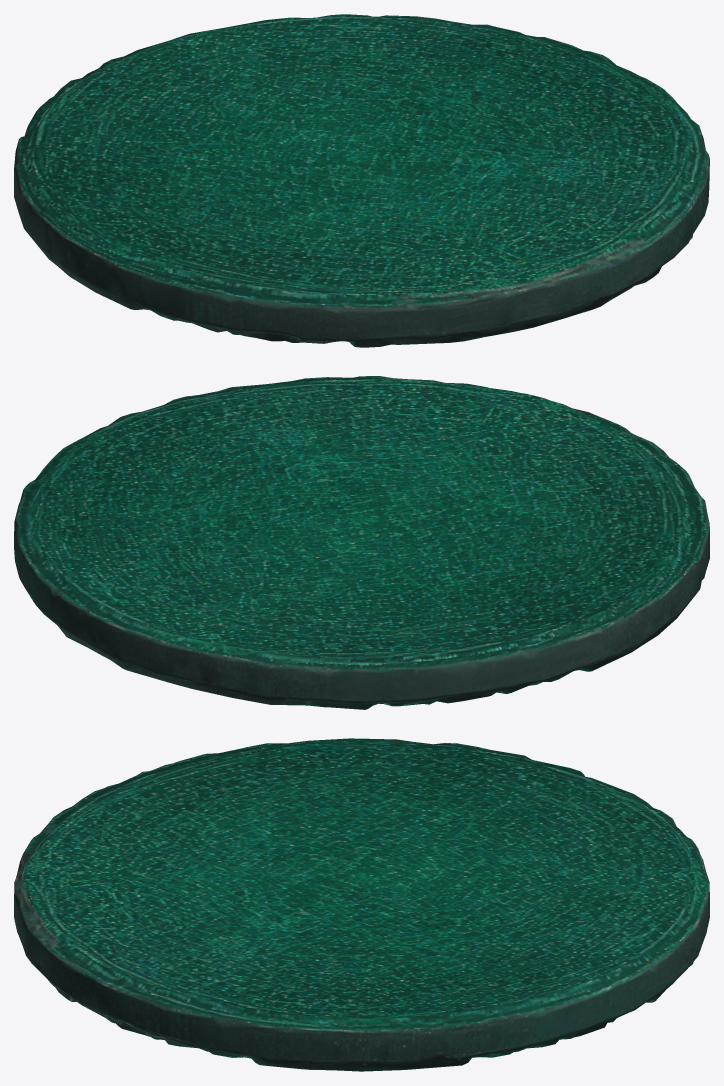
The model's file is rune_sigil.glb.
3 renders of one model, top to bottom at view 1: azimuth 30°, elevation 25°; view 2: azimuth 150°, elevation 25°; view 3: azimuth 270°, elevation 25°, orthographic.
Size of the model in its own units: 1 by 0.08 by 1.
Materials: 1 (1 with a texture image).
